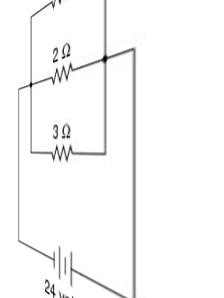resistor: (41, 55, 78, 90), (38, 140, 76, 165)
